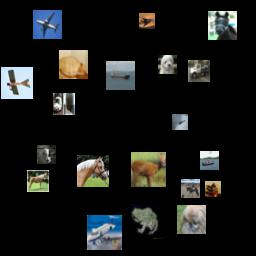airplane: (87, 215, 122, 250), (1, 67, 33, 99), (33, 10, 62, 39), (139, 13, 155, 29), (172, 114, 188, 130)
cat: (59, 50, 88, 79), (37, 145, 56, 164), (205, 181, 221, 197)
deer: (131, 152, 166, 187)
dog: (177, 205, 206, 234), (158, 55, 177, 74)
frog: (129, 204, 164, 239)
ship: (106, 61, 135, 90), (200, 151, 219, 170)
truck: (188, 60, 210, 82), (53, 93, 75, 115)
